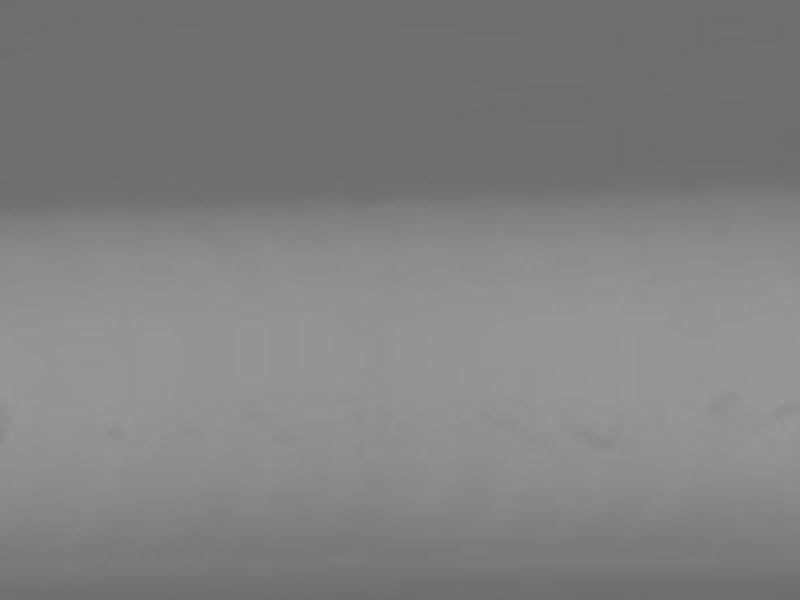defect: (706, 390, 742, 422), (770, 393, 799, 414), (583, 426, 609, 449), (103, 417, 126, 440), (274, 425, 295, 445)
